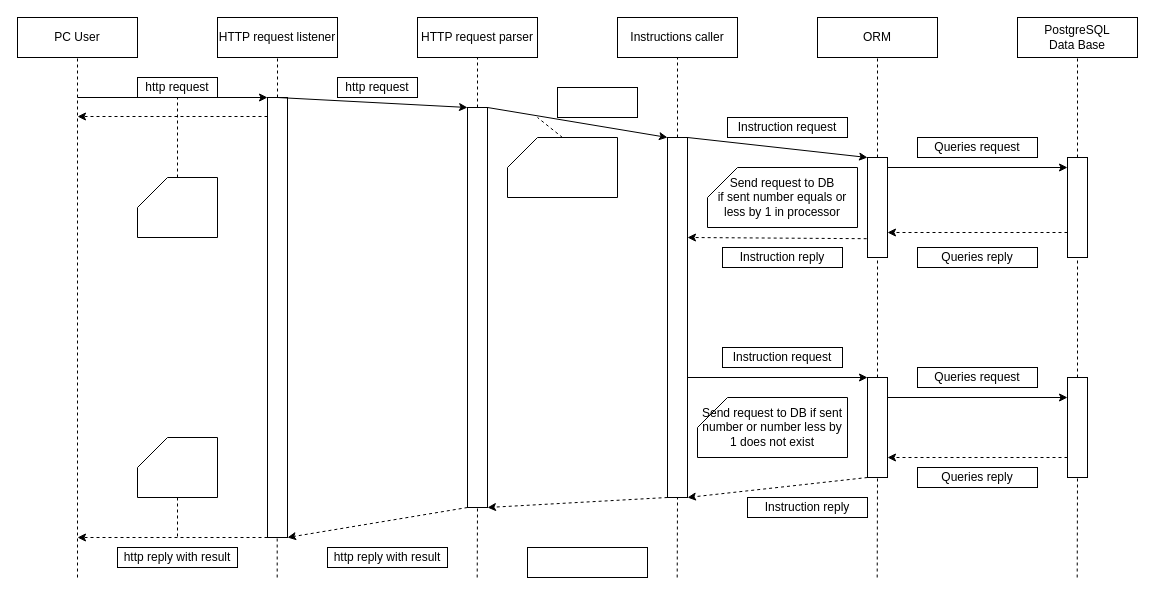
This 1155x596 diagram has some shape labels left out. Here are the shapes that lost their labels. From the top down, the centre of each, then its label:
At pixel 597 102: "http method request".
At pixel 562 167: "send content to processor".
At pixel 177 207: "initiate request".
At pixel 177 467: "recieve result".
At pixel 587 562: "http method reply with result".
